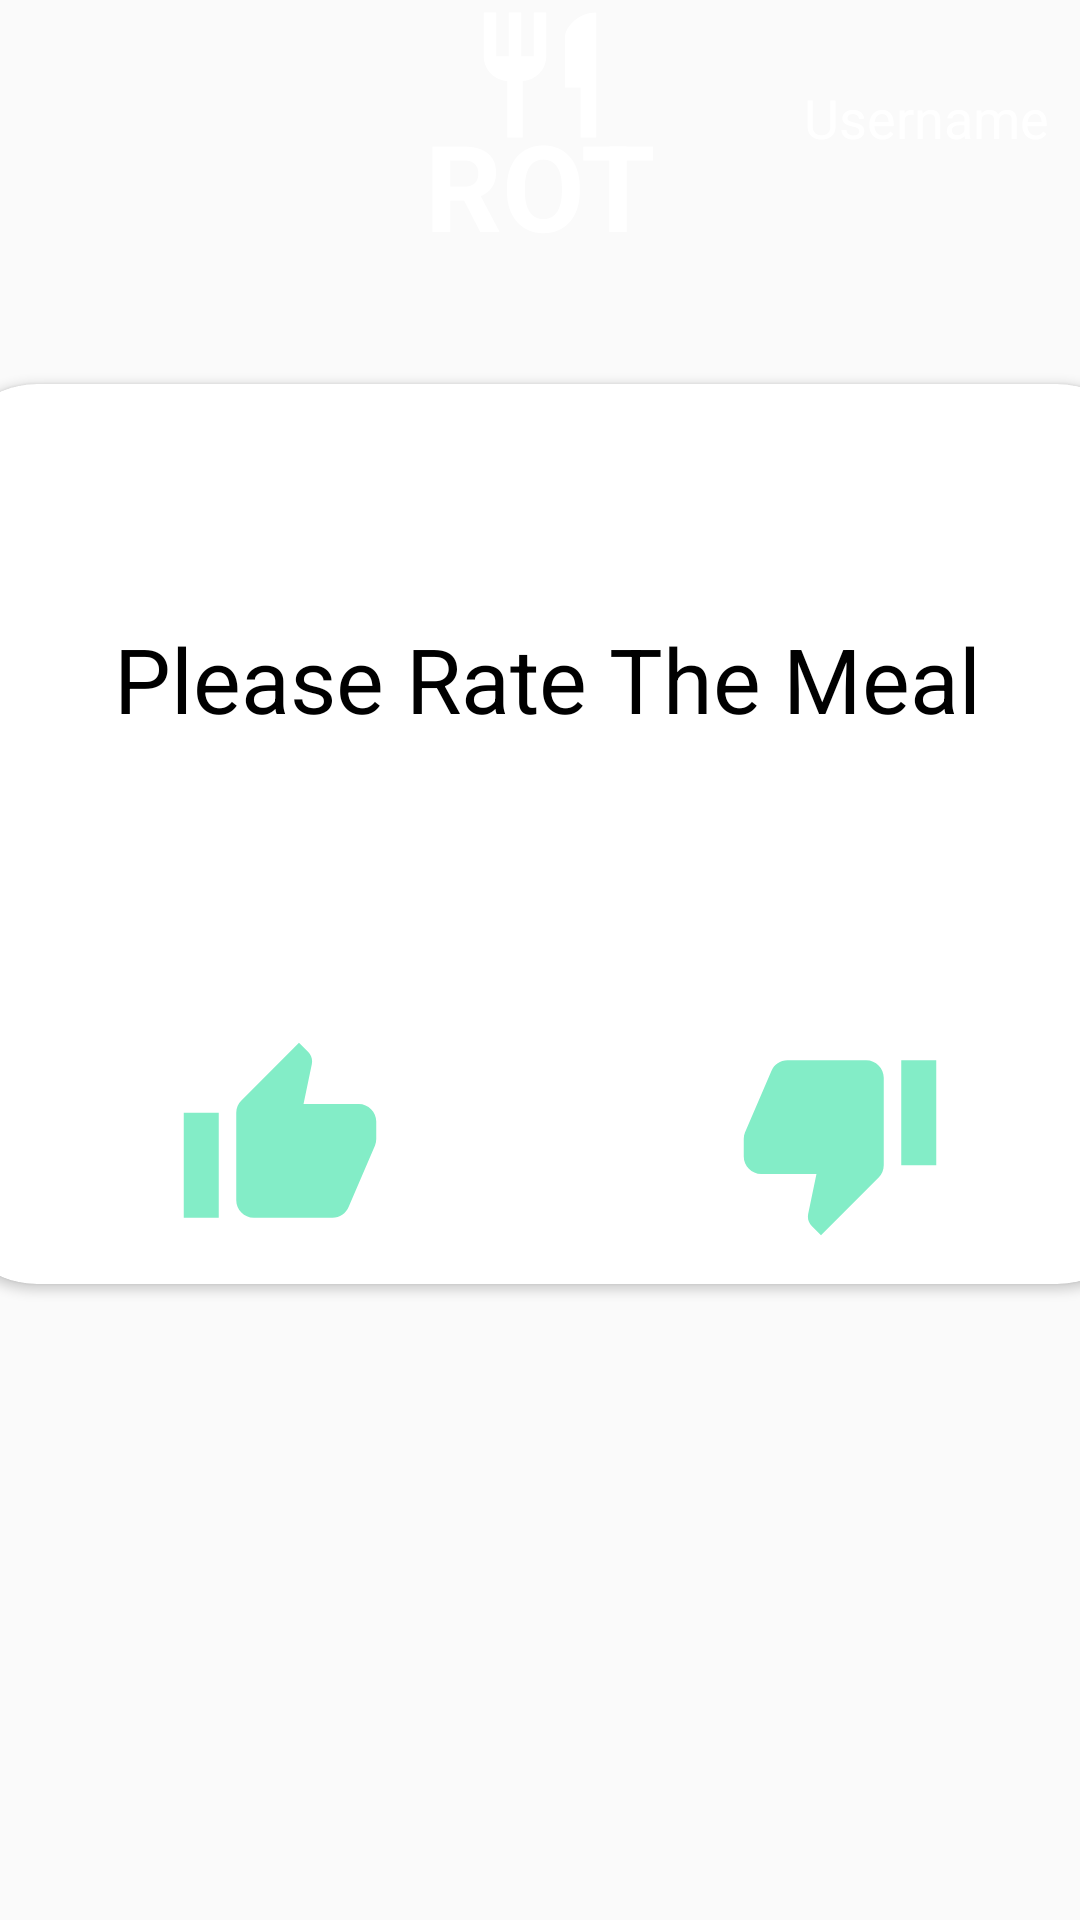

Screen size 1080 x 1920. Icon name, then its center in pixels as (x,y):
thumb down: (840,1147)
thumb up: (280,1130)
